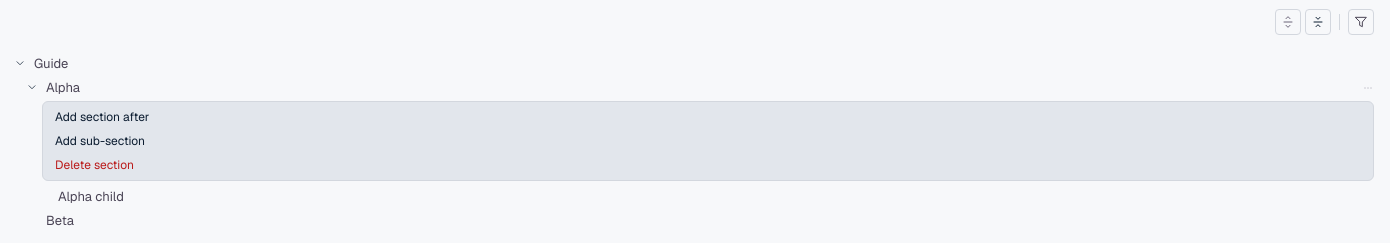
Scenario: 章节结构菜单：动作与提示 › 删除两步确认：第一步报数不发写回，第二步确认才发
This screenshot has width=1390, height=243.
Earlier steps of the test are not shown.
Later steps or results of the test are not shown.
Step 1. Click the button "Delete section" → (94, 165), box [47, 154, 1369, 176]
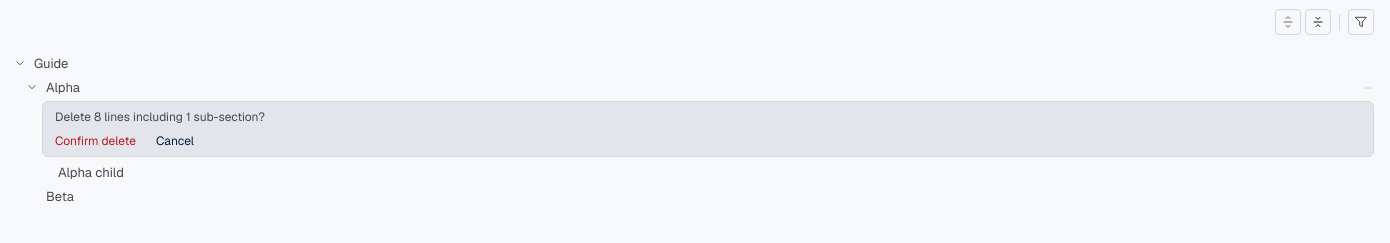
Now the text "Delete 8 lines including 1 sub-section?" is shown, box [55, 109, 265, 125]
